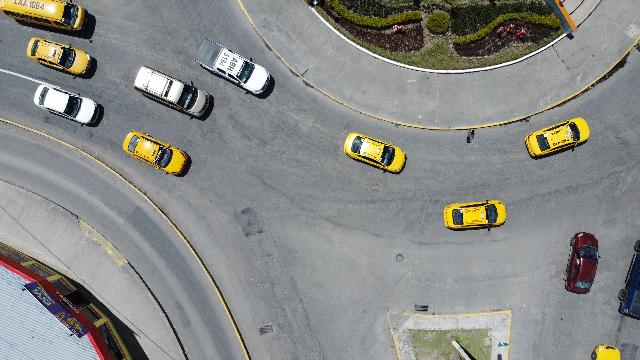Vehiculo: (193, 38, 270, 94), (134, 66, 210, 118), (122, 130, 190, 176), (0, 0, 88, 32), (524, 118, 590, 159), (34, 85, 98, 126), (344, 132, 406, 174), (27, 38, 92, 76), (564, 232, 600, 294), (444, 200, 506, 230), (618, 240, 640, 320), (592, 344, 620, 360)
